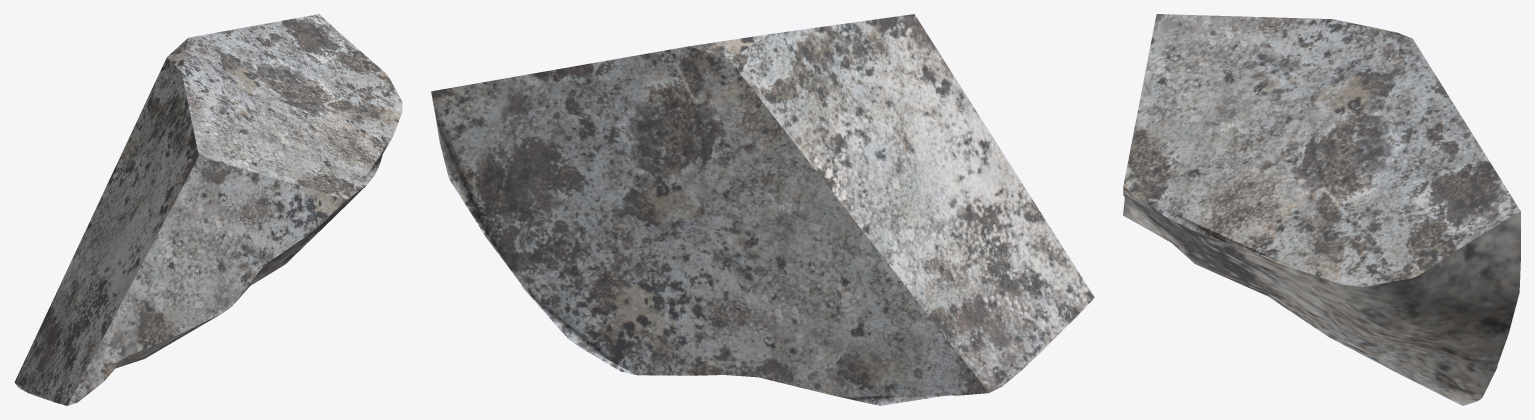
File: Asteroid_Large_001_02_001.fbx
3 views of the same model, side by side, from view 1: azimuth 30°, elevation 25°; view 2: azimuth 150°, elevation 25°; view 3: azimuth 270°, elevation 25° (orthographic). The views are drawn at different scales.
Visible parts, largest first — view 1: Asteroid_Large_001_02_001; view 2: Asteroid_Large_001_02_001; view 3: Asteroid_Large_001_02_001.
Part boxes in pixels (left/top/right/bottom): Asteroid_Large_001_02_001: left=14, top=14, right=402, bottom=405; Asteroid_Large_001_02_001: left=431, top=14, right=1094, bottom=405; Asteroid_Large_001_02_001: left=1123, top=14, right=1520, bottom=405.
Size of the model in its own units: 25.69 by 16.04 by 15.95.
